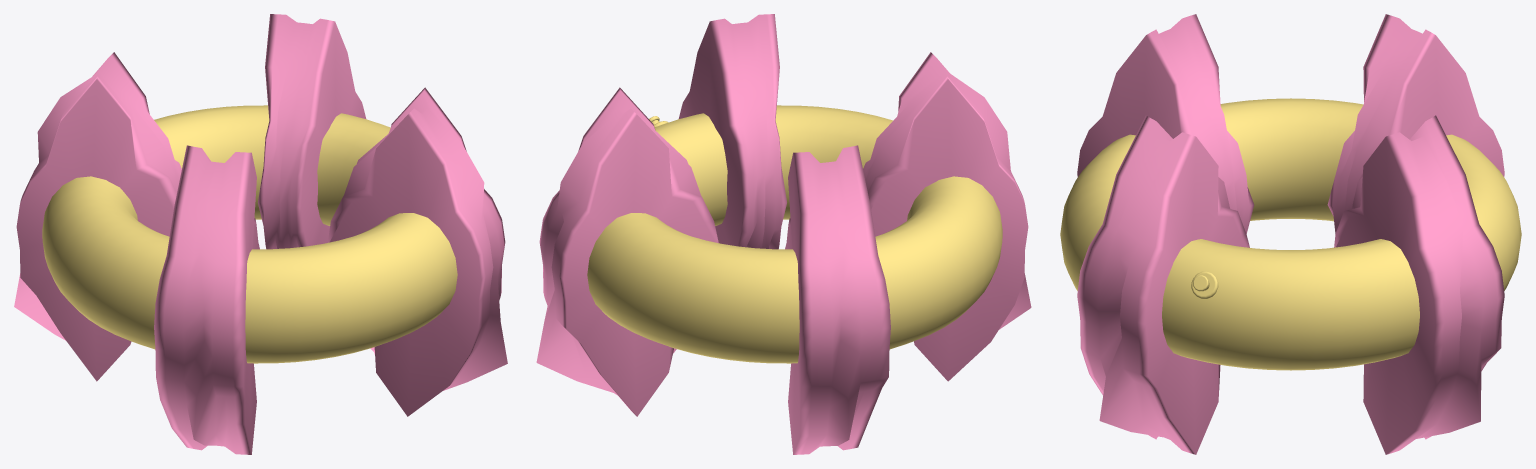
The model's file is SharkBaitFloatie.glb.
The picture shows the model from 3 angles, left to right: view 1: azimuth 30°, elevation 25°; view 2: azimuth 150°, elevation 25°; view 3: azimuth 270°, elevation 25°; orthographic projection. The views are drawn at different scales.
Visible parts, largest first — view 1: Stripes, Ring; view 2: Stripes, Ring; view 3: Stripes, Ring.
Part boxes in pixels (bbox=[...]): Stripes: bbox=[14, 14, 507, 454]; Ring: bbox=[42, 105, 457, 363]; Stripes: bbox=[536, 14, 1031, 454]; Ring: bbox=[587, 105, 1002, 363]; Stripes: bbox=[1077, 14, 1504, 454]; Ring: bbox=[1060, 98, 1521, 370].
Size of the model in its own units: 3.6 by 2.74 by 3.6.
